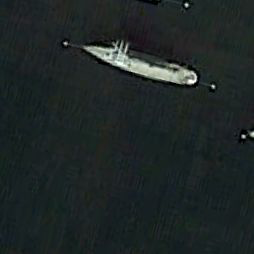boat: (80, 43, 198, 87)
